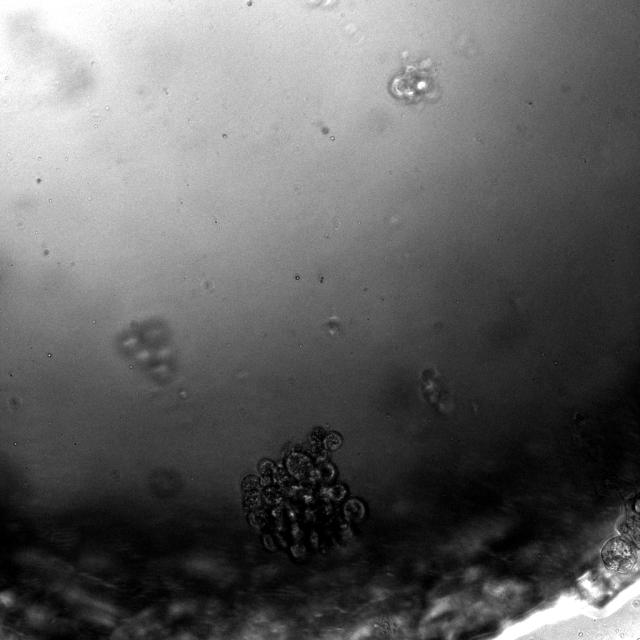organoid: (241, 428, 368, 562), (601, 482, 639, 572), (388, 58, 441, 104), (419, 368, 453, 413)
